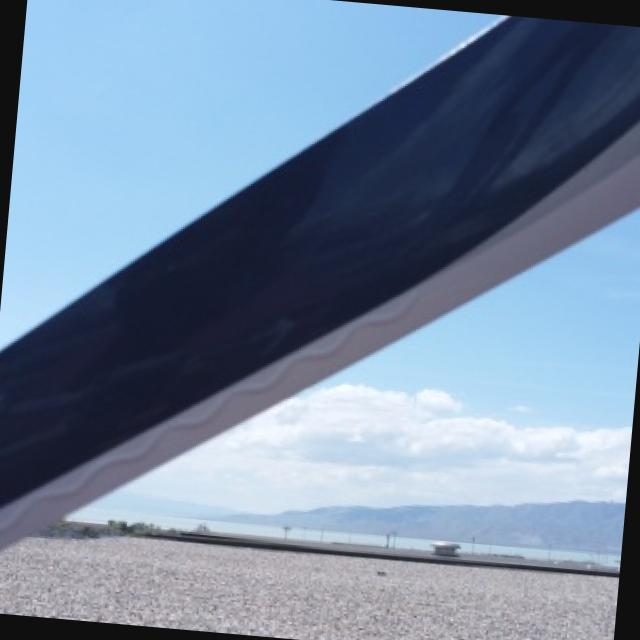healthy: (0, 17, 640, 543)
